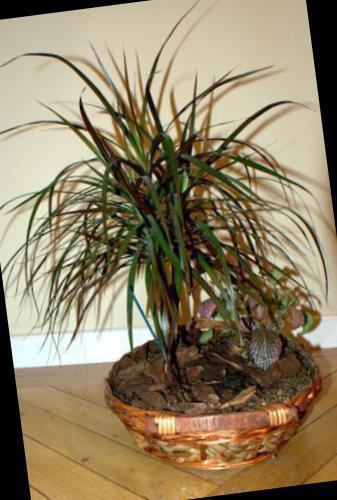Matera: (0, 0, 337, 496)
